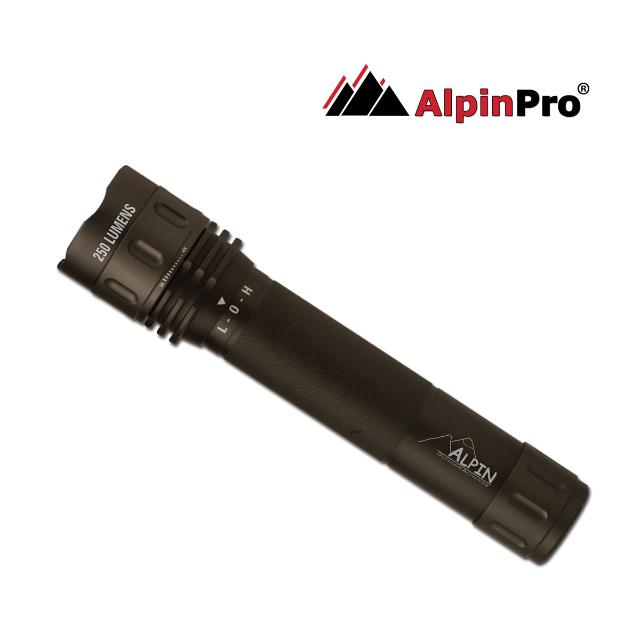Flashlight: (52, 152, 594, 576)
